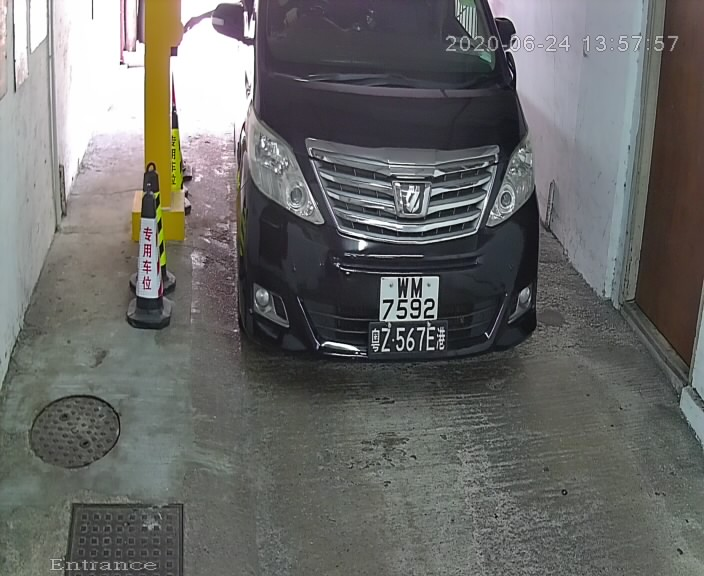Car: (194, 1, 557, 396)
License Plate: (374, 268, 447, 333)
